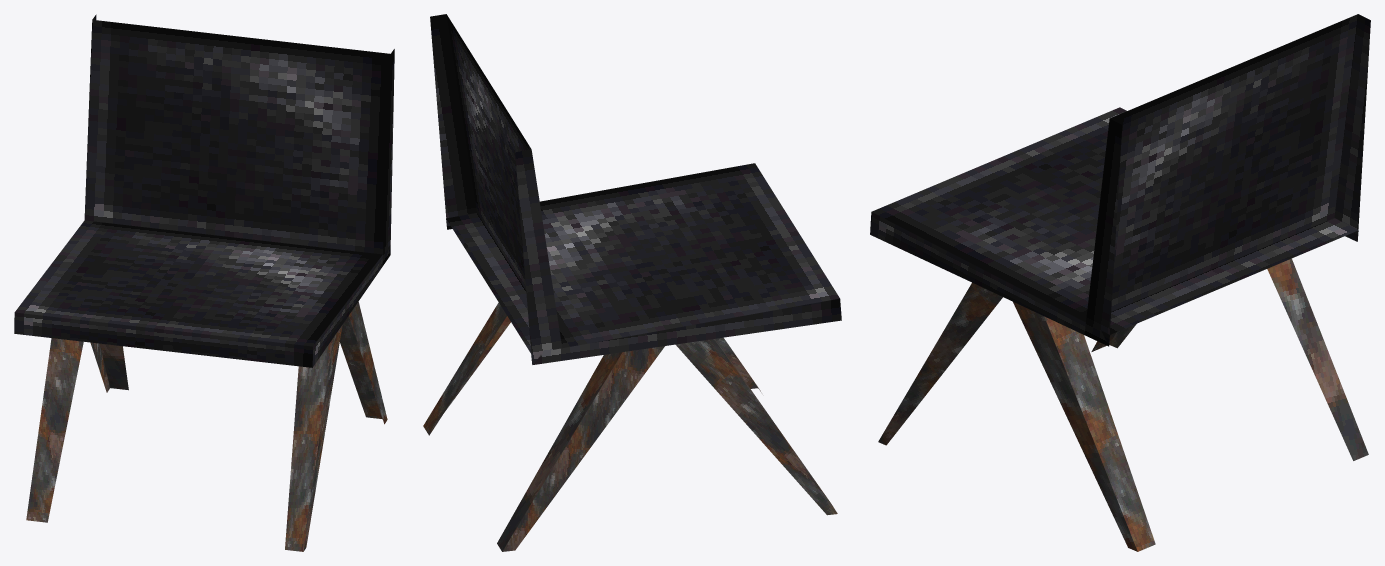
File: primary_135.glb
The picture shows the model from 3 angles, left to right: view 1: azimuth 30°, elevation 25°; view 2: azimuth 150°, elevation 25°; view 3: azimuth 270°, elevation 25°; orthographic projection. The views are drawn at different scales.
Parts seen in each view (by area): view 1: Object; view 2: Object; view 3: Object.
Boxes of the visible parts, x1,y1,x2,y2 form: Object: [14, 14, 394, 551]; Object: [423, 14, 841, 551]; Object: [870, 14, 1370, 551].
Bounding box in the file's own units: 0.9466 × 0.8928 × 0.9465.
2 materials, 2 textured.
